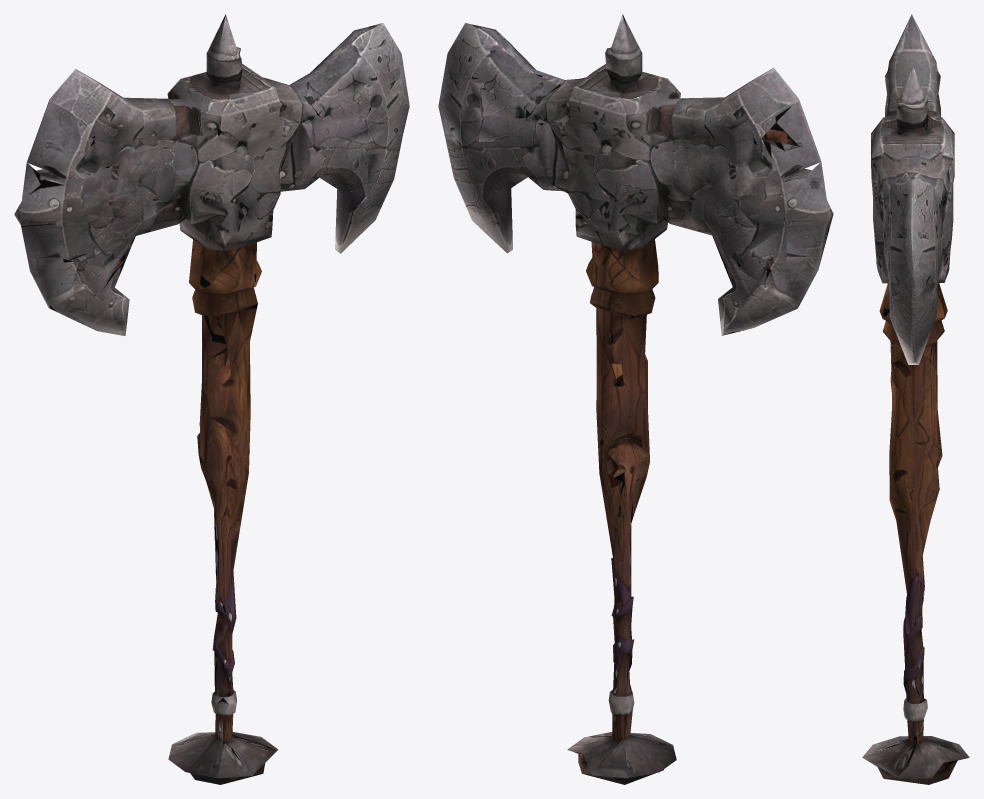
Rendered from greataxe_orc.glb.
The picture shows the model from 3 angles, left to right: view 1: azimuth 30°, elevation 25°; view 2: azimuth 150°, elevation 25°; view 3: azimuth 270°, elevation 25°; orthographic projection. The views are drawn at different scales.
Visible parts, largest first — view 1: item; view 2: item; view 3: item.
Part boxes in pixels (<box>): item: <box>14,14,409,784</box>; item: <box>438,14,833,784</box>; item: <box>862,14,969,784</box>.
Bounding box in the file's own units: 0.9553 × 1.75 × 0.2431.
1 material, 1 textured.
